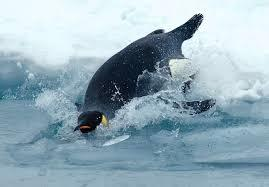emporer: (55, 12, 224, 135)
